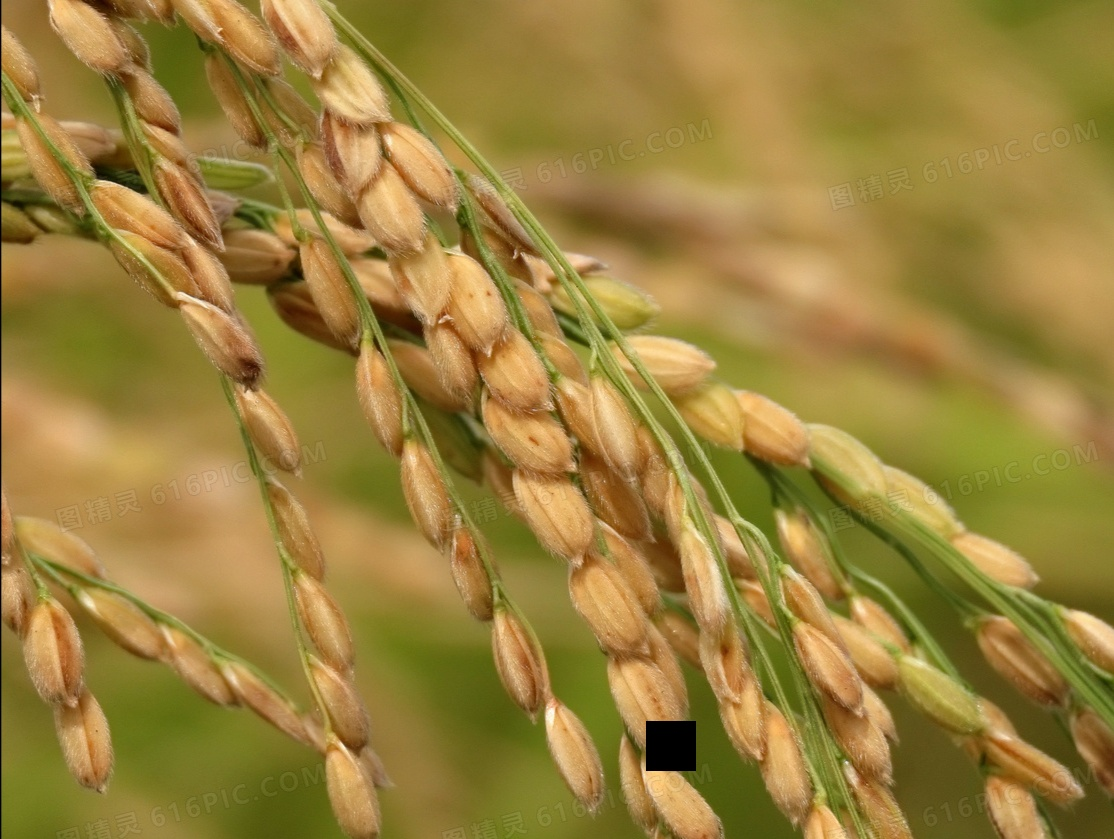rice: (2, 1, 1109, 838)
